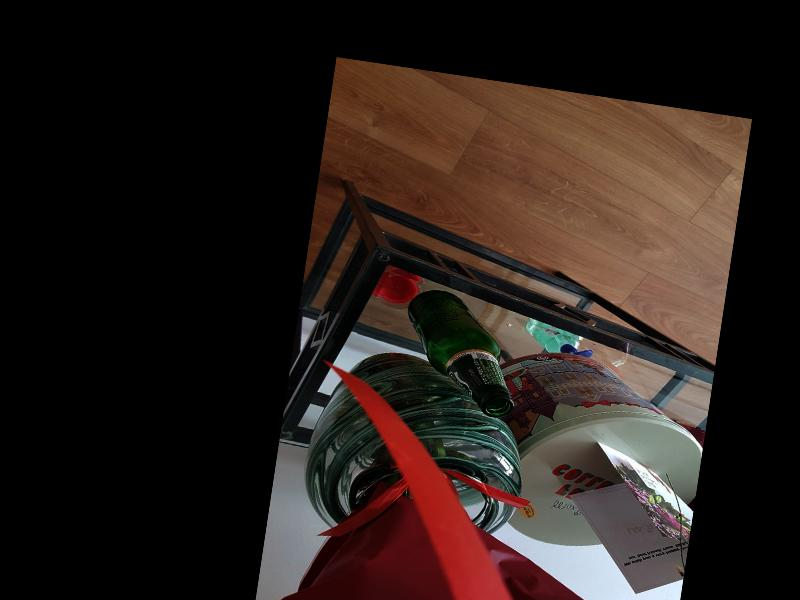Beer: (392, 286, 528, 419)
